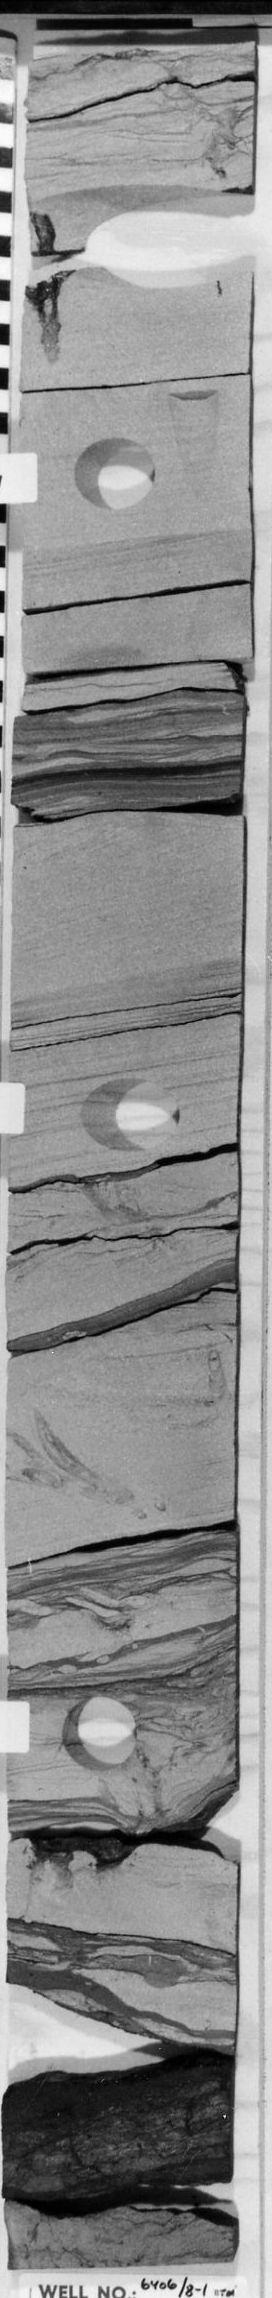hplug: (72, 1071, 192, 1156), (61, 426, 164, 520), (56, 1684, 154, 1773)
scal: (31, 173, 247, 306)
vplug: (164, 387, 222, 506)
